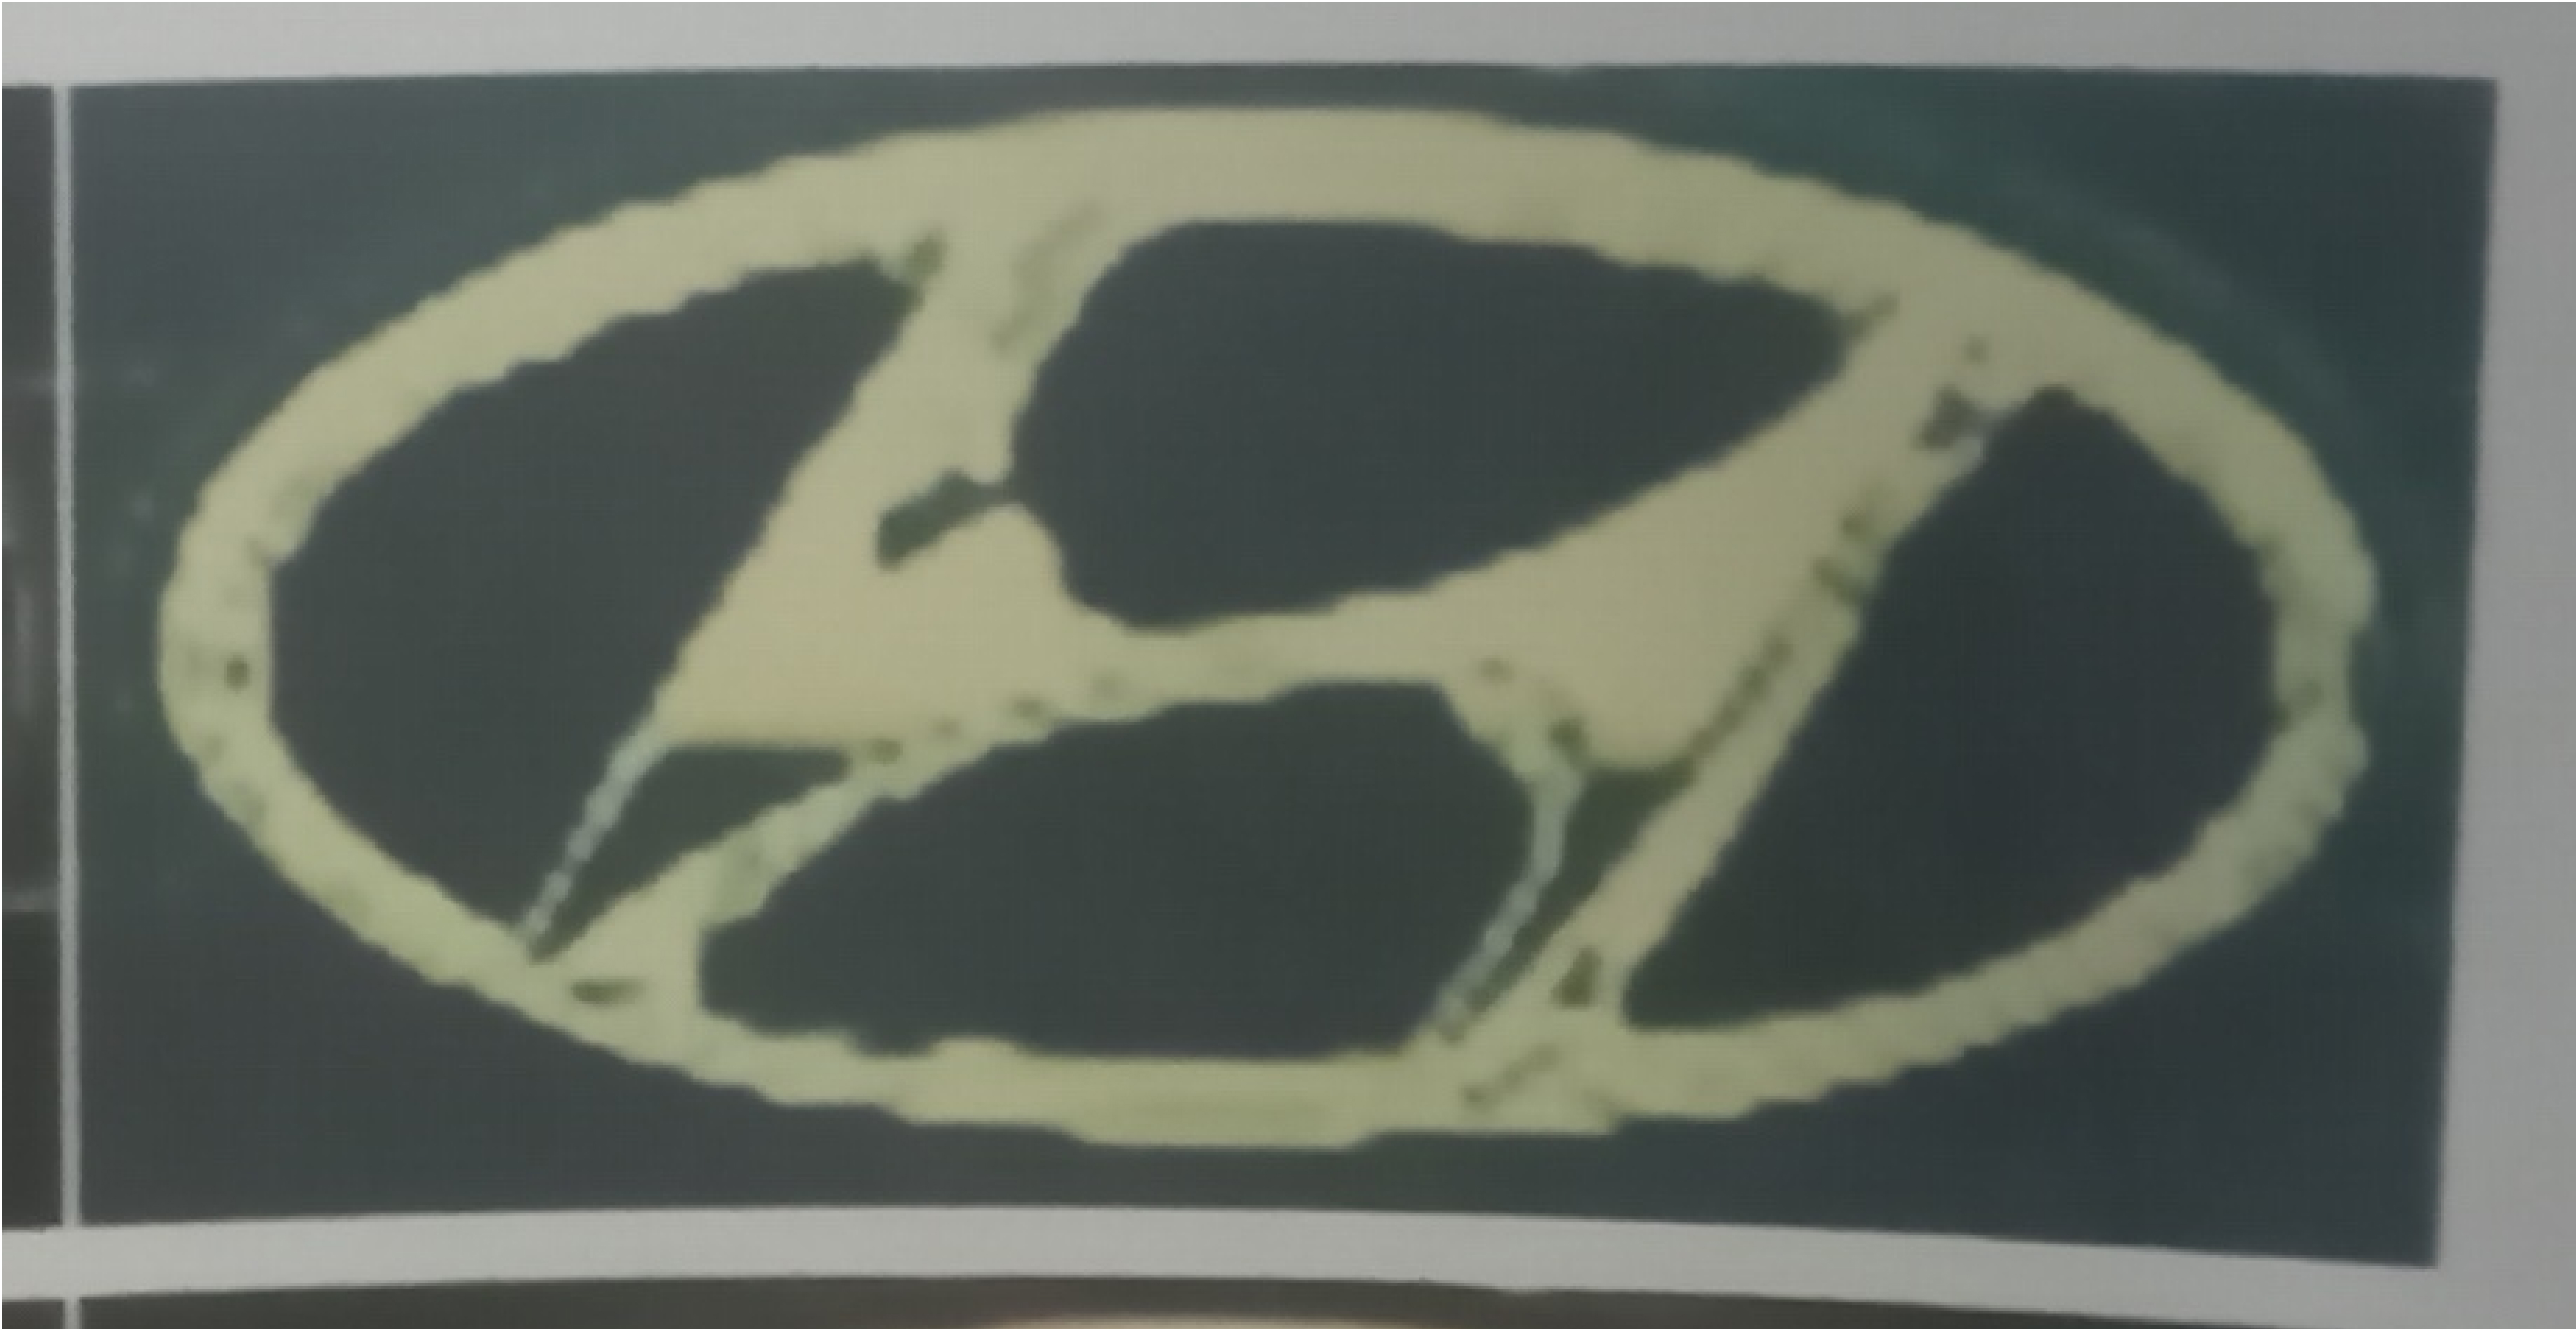Hyundai: (117, 73, 2437, 1183)
